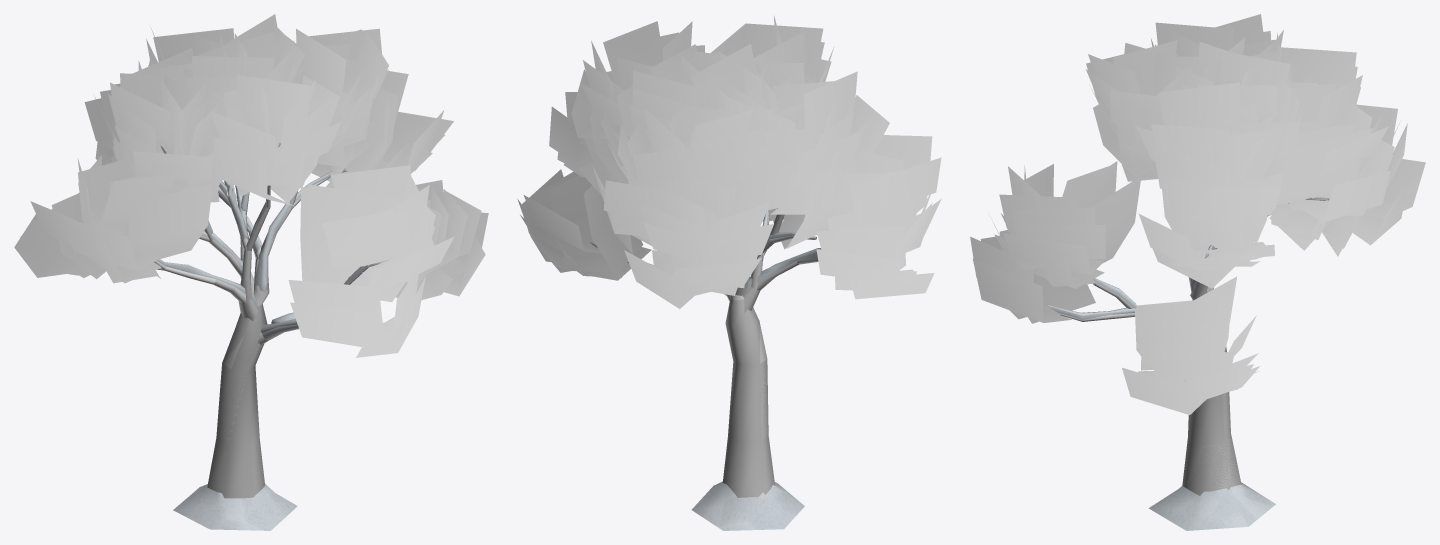
File: Tree_Medium_2_Tall_Snow.fbx
The picture shows the model from 3 angles, left to right: view 1: azimuth 30°, elevation 25°; view 2: azimuth 150°, elevation 25°; view 3: azimuth 270°, elevation 25°; orthographic projection. The views are drawn at different scales.
Parts seen in each view (by area): view 1: Tree_Medium_2_Snow_LOD0, Tree_Medium_2_Snow_Colider; view 2: Tree_Medium_2_Snow_LOD0, Tree_Medium_2_Snow_Colider; view 3: Tree_Medium_2_Snow_LOD0, Tree_Medium_2_Snow_Colider.
Part boxes in pixels (box(x1,y1,x2,y2)): Tree_Medium_2_Snow_LOD0: box(14, 14, 488, 530); Tree_Medium_2_Snow_Colider: box(207, 304, 267, 498); Tree_Medium_2_Snow_LOD0: box(517, 15, 941, 530); Tree_Medium_2_Snow_Colider: box(722, 298, 775, 497); Tree_Medium_2_Snow_LOD0: box(970, 14, 1425, 530); Tree_Medium_2_Snow_Colider: box(1182, 346, 1241, 495).
Size of what is drawn, in the model's own units: 1686 by 1656 by 1464.
